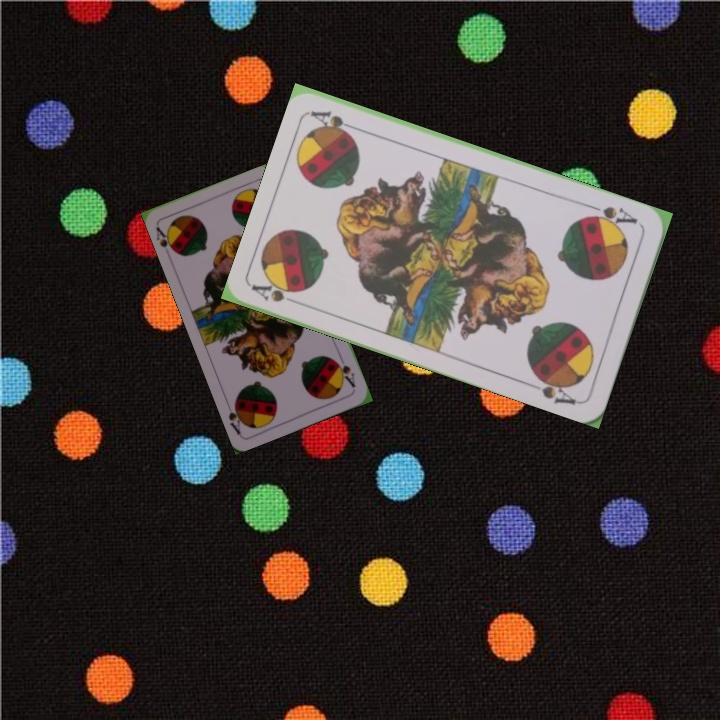SA: (249, 278, 306, 310), (582, 200, 640, 231), (152, 222, 181, 257), (331, 355, 358, 390)
